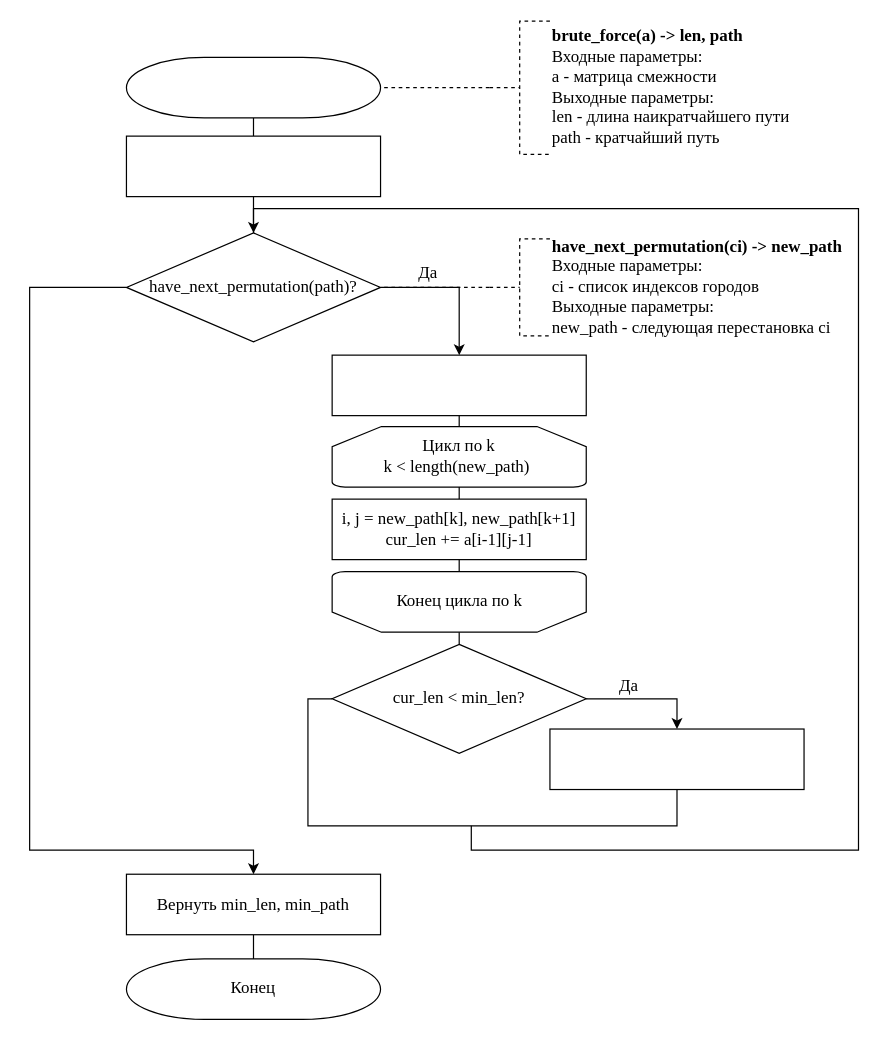
The diagram is 889 pixels wide and 1041 high, and some of its shapes have lost their labels. The shapes that lost their labels are listed below. From the top down, each one's box as (x1, y1, x2, y2) in pixels, then its label:
(125, 56, 381, 118): Начало
(125, 135, 381, 197): path = [1 ... length(a)] min_len = ∞, min_path = path
(331, 354, 586, 416): cur_len = 0
(549, 728, 804, 790): min_len = cur_len min_path = new_path
